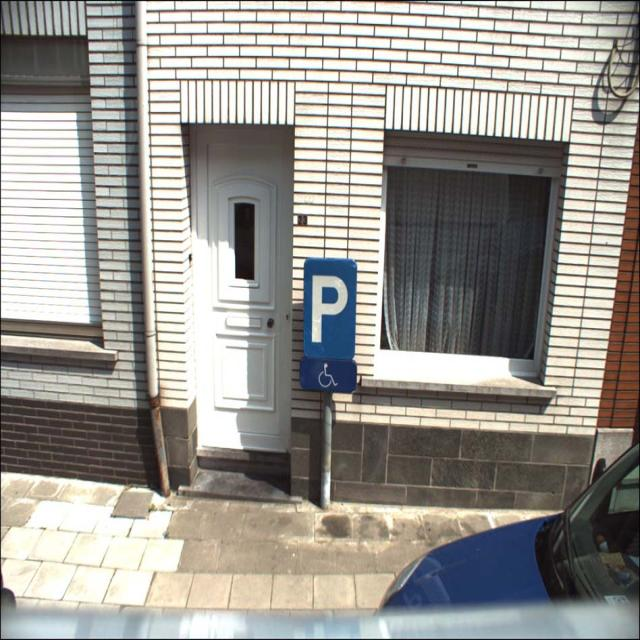park: (302, 258, 354, 360)
